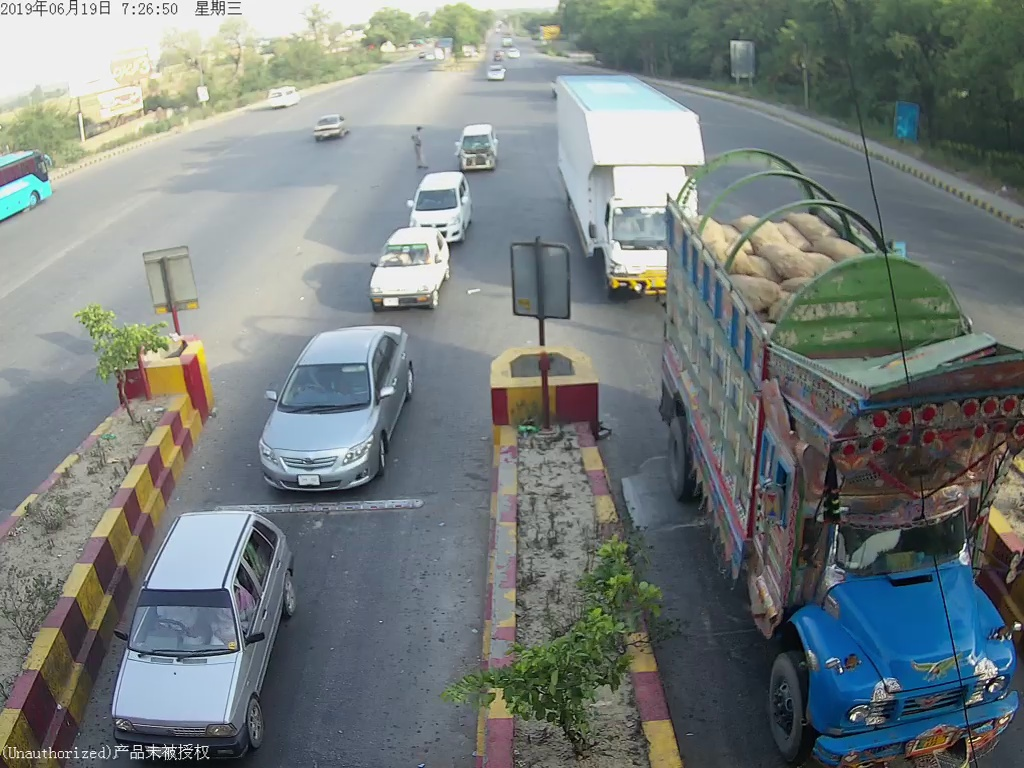Cat-1: (115, 512, 300, 748), (248, 321, 427, 503), (364, 226, 450, 309), (405, 172, 471, 222), (453, 116, 502, 167)
Cat-4: (669, 157, 1024, 761), (549, 69, 711, 297)
